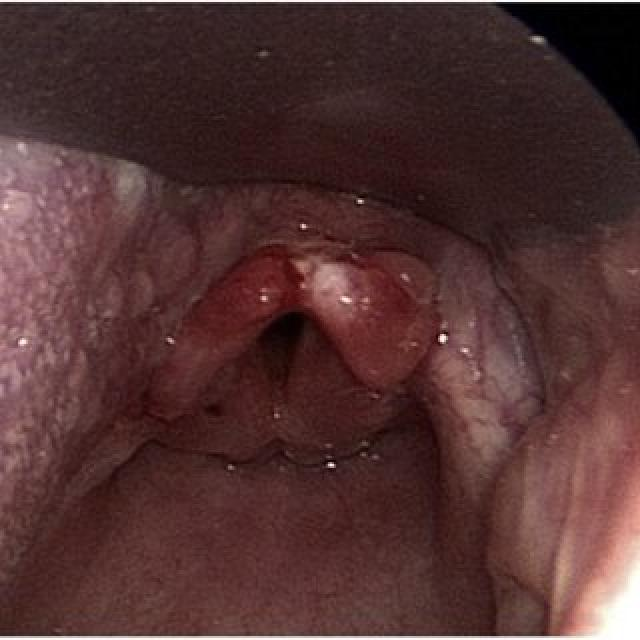epiglottisrotation: (178, 243, 432, 390)
larynxrotation: (252, 307, 310, 369)
